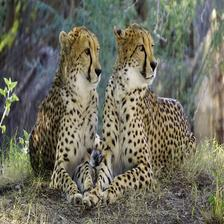Cheetah: (89, 25, 207, 204), (28, 25, 109, 212)
